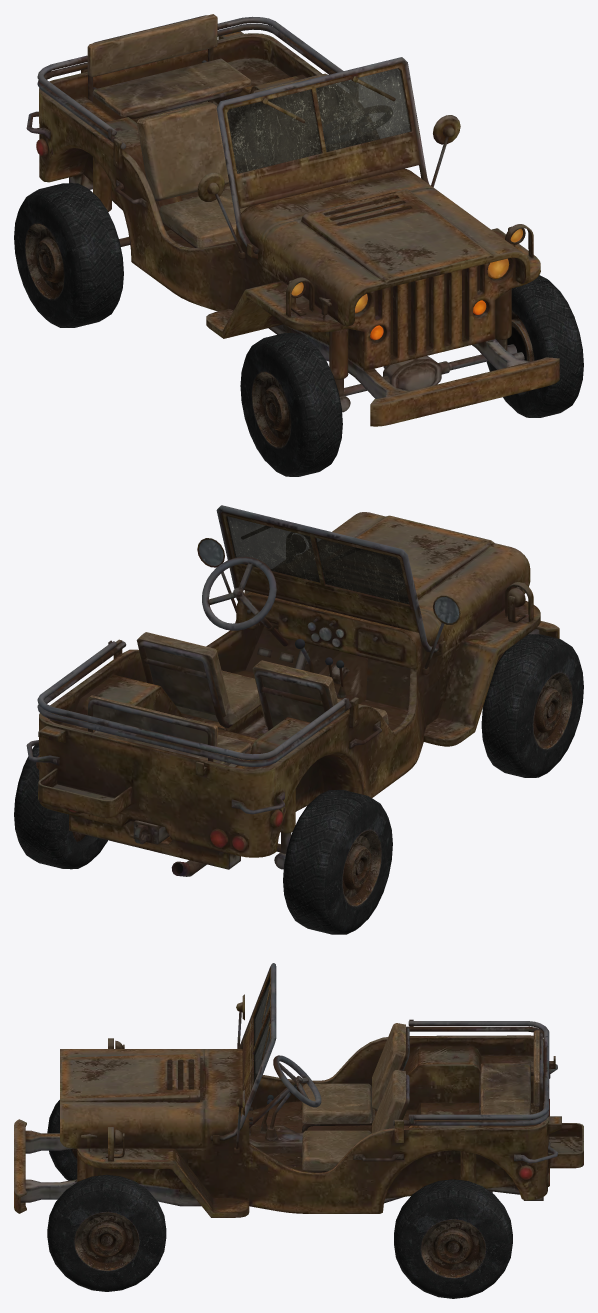
The model's file is jeep-8dd9a0.glb.
3 views of the same model, one above another, from view 1: azimuth 30°, elevation 25°; view 2: azimuth 150°, elevation 25°; view 3: azimuth 270°, elevation 25° (orthographic). The views are drawn at different scales.
Visible parts, largest first — view 1: body, wheel-back-right, wheel-front-right, wheel-front-left; view 2: body, wheel-back-right, wheel-front-right, wheel-back-left; view 3: body, wheel-back-left, wheel-front-left, wheel-front-right.
Boxes of the visible parts, x1,y1,x2,y2 form: body: (26,14,559,426); wheel-back-right: (14,183,123,327); wheel-front-right: (240,333,342,476); wheel-front-left: (486,275,583,417); body: (26,505,559,876); wheel-back-right: (283,790,392,934); wheel-front-right: (481,634,583,777); wheel-back-left: (14,745,107,869); body: (14,963,583,1217); wheel-back-left: (394,1179,512,1298); wheel-front-left: (47,1174,166,1291); wheel-front-right: (47,1100,77,1180).
Bounding box in the file's own units: 2.12 × 1.84 × 3.98.
Materials: 3 (3 with a texture image).
